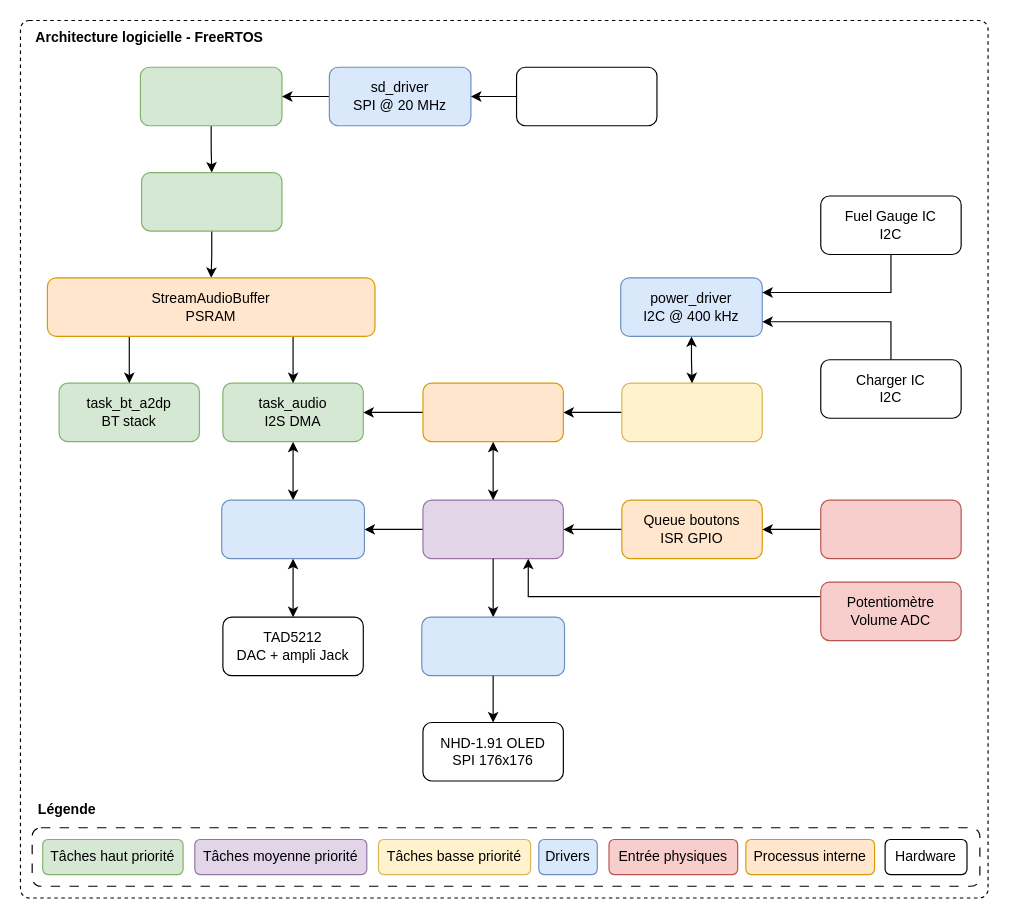
The diagram is 1009 pixels wide and 918 high, and some of its shapes have lost their labels. Each missing label, with the centre of its shape:
audio_driver I2S + I2C control: the point at 292,529
Boutons GPIO ISR: the point at 890,529
Carte SD WAV 48/24 + MP3: the point at 586,96
display_driver SPI @ 10 MHz: the point at 493,646
EventGroup États système: the point at 492,412
task_decoder MP3/WAV: the point at 211,201
task_power IC gestion batterie: the point at 691,412
task_sd_read SPI DMA: the point at 210,96
task_ui Écran + boutons: the point at 492,529
